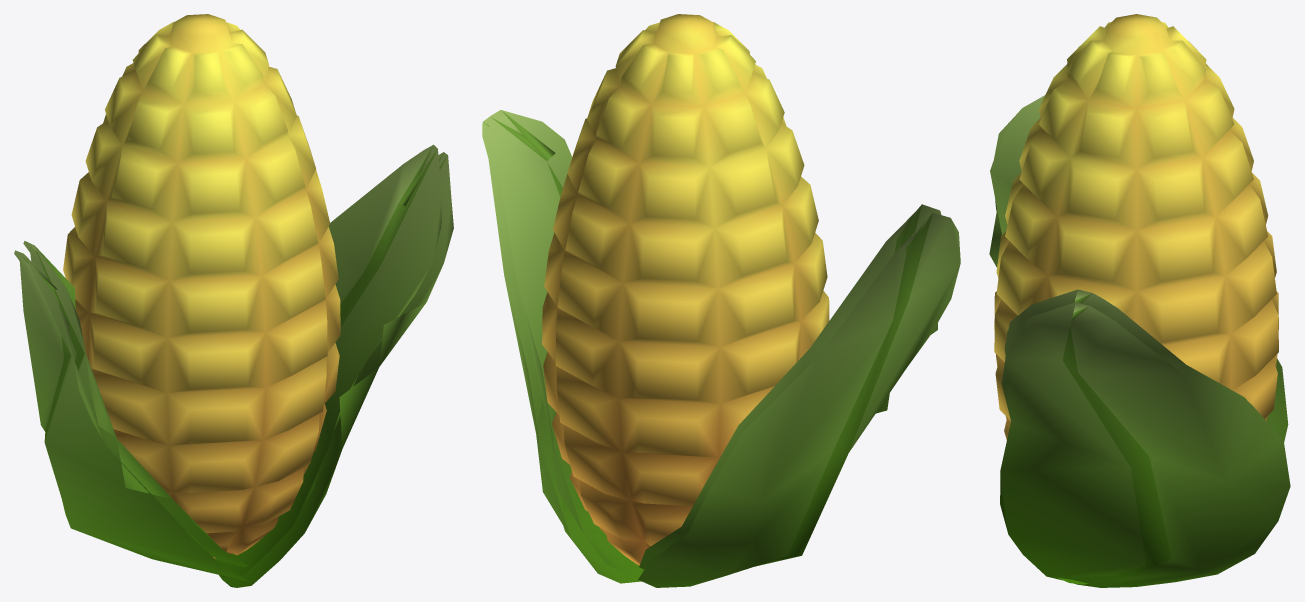
File: corn.glb
The picture shows the model from 3 angles, left to right: view 1: azimuth 30°, elevation 25°; view 2: azimuth 150°, elevation 25°; view 3: azimuth 270°, elevation 25°; orthographic projection. The views are drawn at different scales.
Visible parts, largest first — view 1: corn; view 2: corn; view 3: corn.
Boxes of the visible parts, <box> form: corn: <box>14,14,453,587</box>; corn: <box>482,14,960,587</box>; corn: <box>989,14,1290,587</box>.
Bounding box in the file's own units: 0.7201 × 0.8749 × 0.4233.
Materials: 1 (1 with a texture image).
